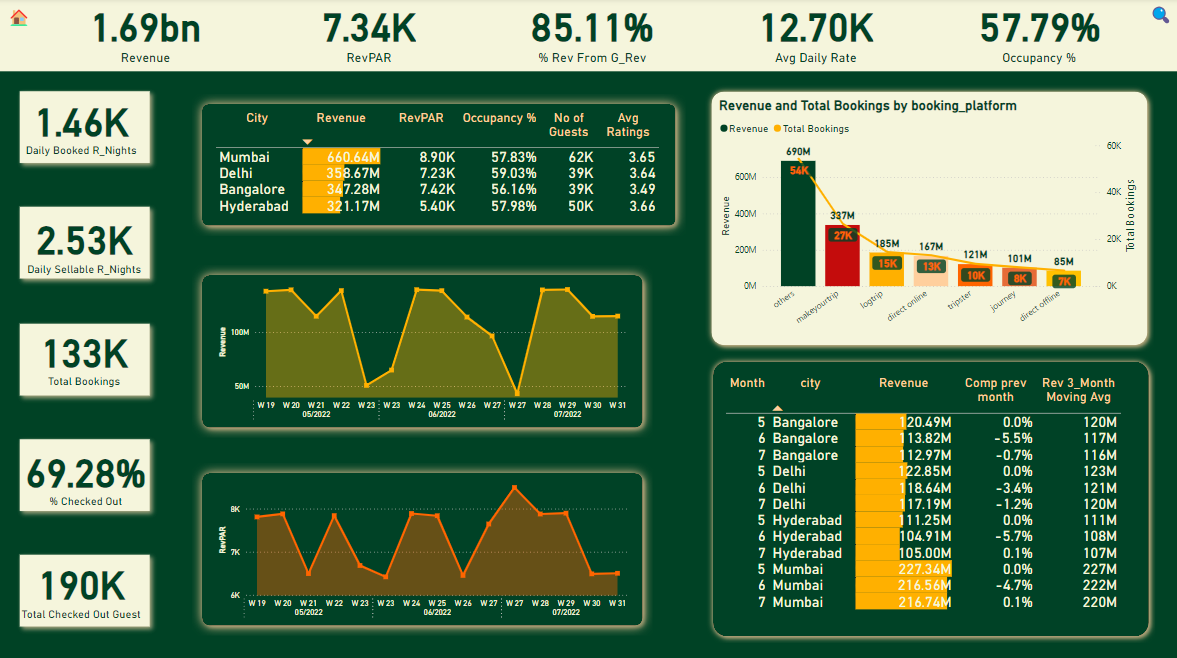

This screenshot's page, from the dashboard's own definition file:
{"tool":"powerbi","page":{"name":"Page 2","canvas":[1280,720],"ordinal":1},"visuals":[{"type":"shape","box":[1008.9,71.7,265.2,633.6],"z":0},{"type":"shape","box":[0,0,1280,71.7],"z":1000},{"type":"cardVisual","fields":{"Data":["Key Measures (2).Revenue","Key Measures (2).RevPAR","Key Measures (2).ADR","Key Measures (2).Occupancy %","Key Measures (2).Realisation %","Key Measures (2).DSRN"]},"box":[40.8,0,1198.8,71.8],"z":2000},{"type":"advancedSlicerVisual","title":"WEEK","fields":{"Values":["dim_date.wn"]},"box":[0,77.3,63.2,642.5],"z":3000},{"type":"tableEx","fields":{"Values":["Key Measures (2).Revenue WoW change %"]},"box":[177.3,0,103.7,44.3],"z":4000},{"type":"tableEx","fields":{"Values":["Key Measures (2).Revpar WoW change %"]},"box":[377.7,0,102,44.3],"z":5000},{"type":"tableEx","fields":{"Values":["Key Measures (2).ADR WoW change %"]},"box":[579,0,94,44.3],"z":6000},{"type":"tableEx","fields":{"Values":["Key Measures (2).Occupancy WoW change %"]},"box":[783,0,106.4,44.3],"z":7000},{"type":"tableEx","fields":{"Values":["Key Measures (2).Realisation WoW change %"]},"box":[982.5,0,96.7,44.3],"z":8000},{"type":"shape","title":"hotel cate Shape","box":[132.1,417.6,838.8,302.4],"z":10000},{"type":"cardVisual","fields":{"Data":["Key Measures (2).Total Bookings","Key Measures (2).Total Capacity","Key Measures (2).DBRN","Key Measures (2).DURN","Key Measures (2).Average Rating"]},"box":[1016.7,80.6,257.4,607.1],"z":11000},{"type":"scatterChart","title":"Revenue and Total Bookings by Room Class","fields":{"X":["fact_bookings.booking_platform"],"Y":["Key Measures (2).Revenue"],"Series":["dim_rooms.room_class"],"Size":["Key Measures (2).Total Bookings"]},"box":[163.2,432.7,776.7,273.1],"z":12000},{"type":"shape","title":"realisation Shape","box":[738.9,136,273,287],"z":13000},{"type":"shape","box":[353.9,136,388.4,287],"z":14000},{"type":"shape","title":"room class Shape","box":[84.2,136.6,273.1,287.3],"z":15000},{"type":"donutChart","title":"Realisation-Cancellation-No Show rate %","fields":{"Y":["Key Measures (2).Realisation %","Key Measures (2).Cancellation %","Key Measures (2).No Show rate %"]},"box":[745.7,147,259.8,269.6],"z":16000},{"type":"donutChart","title":"Booking % by Platform","fields":{"Y":["Key Measures (2).Booking % by Platform"],"Category":["fact_bookings.booking_platform"]},"box":[368.9,147.2,365.3,269.6],"z":17000},{"type":"donutChart","title":"Booking % by Room Class","fields":{"Y":["Key Measures (2).temp"],"Category":["dim_rooms.room_class"]},"box":[91.3,147,258,268.7],"z":18000},{"type":"shape","title":"hotel city Shape","box":[279.3,67.4,438.9,78],"z":19000},{"type":"shape","title":"hotel cate Shape","box":[77.1,67.4,207.5,78],"z":20000},{"type":"advancedSlicerVisual","fields":{"Values":["dim_hotels.category"]},"box":[90.4,80.7,181.8,50.5],"z":21000},{"type":"advancedSlicerVisual","fields":{"Values":["dim_hotels.city"]},"box":[297,82.5,404.3,48.8],"z":22000},{"type":"shape","title":"clear filter Shape","box":[712.9,68.3,298.8,78],"z":23000,"group":"g1"},{"type":"slicer","fields":{"Values":["dim_hotels.property_name","dim_hotels.property_id"]},"box":[722.7,83.4,242.1,48.8],"z":24000,"group":"g1"},{"type":"actionButton","box":[970.1,84.9,27,24.8],"z":26000,"group":"g1"},{"type":"group","id":"g1","title":"Group 1","box":[712.9,68.3,298.8,78],"z":26001}]}

Visuals, with their boxes in screenshot pixels (x1, y1, x2, y2), scaled from the page's 1280x720 canvas onto the 1177x658 screenshot:
shape: 928/66/1172/645
shape: 0/0/1176/66
cardVisual - Key Measures (2).Revenue x Key Measures (2).RevPAR: 38/0/1140/66
"WEEK" advancedSlicerVisual: 0/71/58/657
tableEx - Key Measures (2).Revenue WoW change %: 163/0/258/40
tableEx - Key Measures (2).Revpar WoW change %: 347/0/441/40
tableEx - Key Measures (2).ADR WoW change %: 532/0/619/40
tableEx - Key Measures (2).Occupancy WoW change %: 720/0/818/40
tableEx - Key Measures (2).Realisation WoW change %: 903/0/992/40
"hotel cate Shape" shape: 121/382/893/657
cardVisual - Key Measures (2).Total Bookings x Key Measures (2).Total Capacity: 935/74/1172/628
"Revenue and Total Bookings by Room Class" scatterChart: 150/395/864/645
"realisation Shape" shape: 679/124/930/387
shape: 325/124/683/387
"room class Shape" shape: 77/125/329/387
"Realisation-Cancellation-No Show rate %" donutChart: 686/134/925/381
"Booking % by Platform" donutChart: 339/135/675/381
"Booking % by Room Class" donutChart: 84/134/321/380
"hotel city Shape" shape: 257/62/660/133
"hotel cate Shape" shape: 71/62/262/133
advancedSlicerVisual - dim_hotels.category: 83/74/250/120
advancedSlicerVisual - dim_hotels.city: 273/75/645/120
"clear filter Shape" shape: 656/62/930/134
slicer - dim_hotels.property_name x dim_hotels.property_id: 665/76/887/121
actionButton: 892/78/917/100
"Group 1" group: 656/62/930/134
